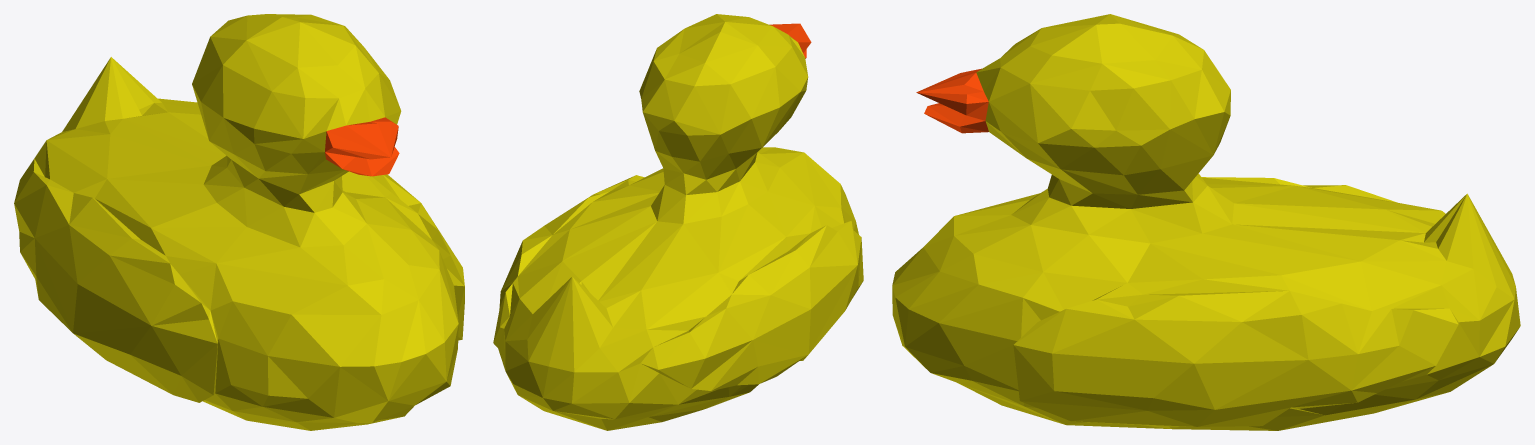
Rendered from stm_env_rubber_duck.fbx.
The picture shows the model from 3 angles, left to right: view 1: azimuth 30°, elevation 25°; view 2: azimuth 150°, elevation 25°; view 3: azimuth 270°, elevation 25°; orthographic projection. The views are drawn at different scales.
Parts seen in each view (by area): view 1: Cylinder; view 2: Cylinder; view 3: Cylinder.
Part boxes in pixels (bbox=[...]): Cylinder: bbox=[14, 14, 464, 430]; Cylinder: bbox=[493, 14, 863, 430]; Cylinder: bbox=[892, 14, 1520, 430].
Size of the model in its own units: 279 by 296 by 468.
